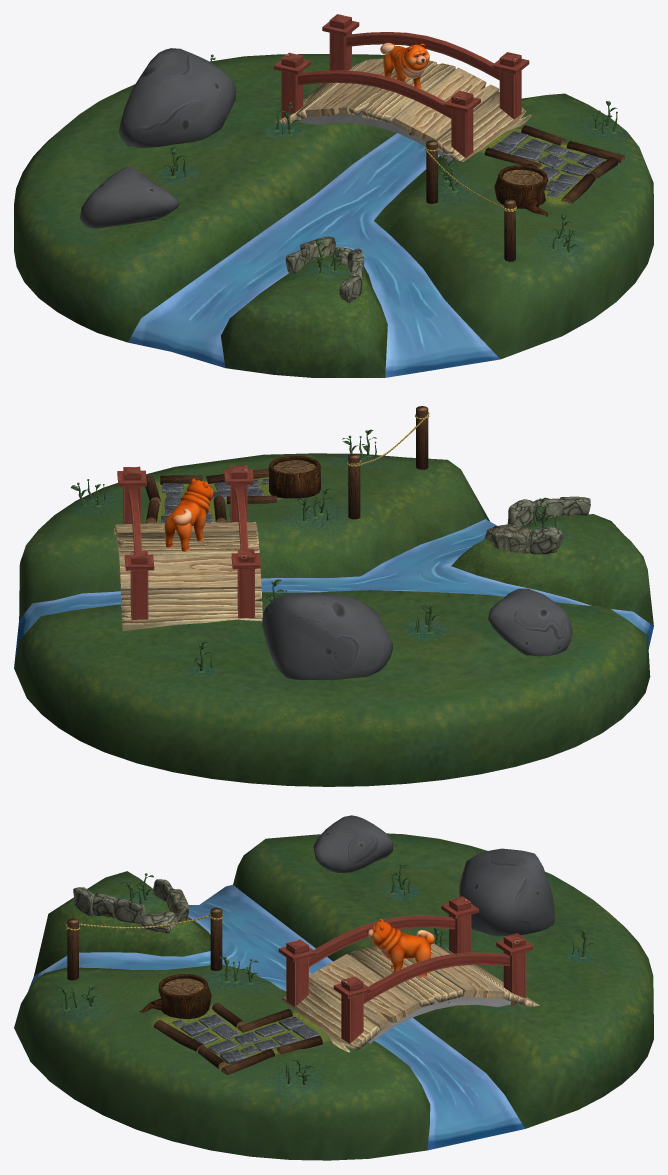
File: escena1.obj
The picture shows the model from 3 angles, top to bottom: view 1: azimuth 30°, elevation 25°; view 2: azimuth 150°, elevation 25°; view 3: azimuth 270°, elevation 25°; orthographic projection. The views are drawn at different scales.
Parts seen in each view (by area): view 1: Ground, Water, Rock.002, Rock.001, Board.003, Board.001, Rail.001, Board.004, Rail, Stump, Board.002, Group24122 (+9 smaller); view 2: Ground, Water, Rock.002, Rock.001, Board.005, Board.002, Board.001, Group24122, Stump, Post.001, Post, Rock.004 (+9 smaller); view 3: Ground, Water, Rock.002, Rock.001, Board.003, Board.001, Board.004, Stump, Rail, Group24122, Rail.001, Post.002 (+13 smaller).
Boxes of the visible parts, <box> form: Ground: <box>14,54,653,377</box>; Water: <box>128,133,500,377</box>; Rock.002: <box>118,48,236,147</box>; Rock.001: <box>80,167,179,228</box>; Board.003: <box>393,67,499,141</box>; Board.001: <box>349,60,455,123</box>; Rail.001: <box>298,70,451,118</box>; Board.004: <box>437,92,531,161</box>; Rail: <box>346,32,499,80</box>; Stump: <box>494,165,547,216</box>; Board.002: <box>305,58,394,116</box>; Group24122: <box>380,42,429,89</box>; Ground: <box>14,453,653,786</box>; Water: <box>14,519,653,667</box>; Rock.002: <box>262,592,392,679</box>; Rock.001: <box>488,588,572,656</box>; Board.005: <box>121,588,262,631</box>; Board.002: <box>119,554,261,590</box>; Board.001: <box>117,530,259,559</box>; Group24122: <box>164,478,213,551</box>; Stump: <box>268,455,320,498</box>; Post.001: <box>124,550,154,619</box>; Post: <box>231,549,260,618</box>; Rock.004: <box>491,526,531,553</box>; Ground: <box>14,833,653,1160</box>; Water: <box>28,884,524,1150</box>; Rock.002: <box>459,848,554,935</box>; Rock.001: <box>313,815,393,872</box>; Board.003: <box>309,954,420,1030</box>; Board.001: <box>349,946,462,1007</box>; Board.004: <box>281,980,380,1052</box>; Stump: <box>139,974,211,1019</box>; Rail: <box>363,952,509,1003</box>; Group24122: <box>367,919,434,977</box>; Rail.001: <box>309,915,455,967</box>; Post.002: <box>333,976,371,1043</box>.
Size of the model in its own units: 3.43 by 0.9145 by 3.42.
Materials: 11 (11 with a texture image).
